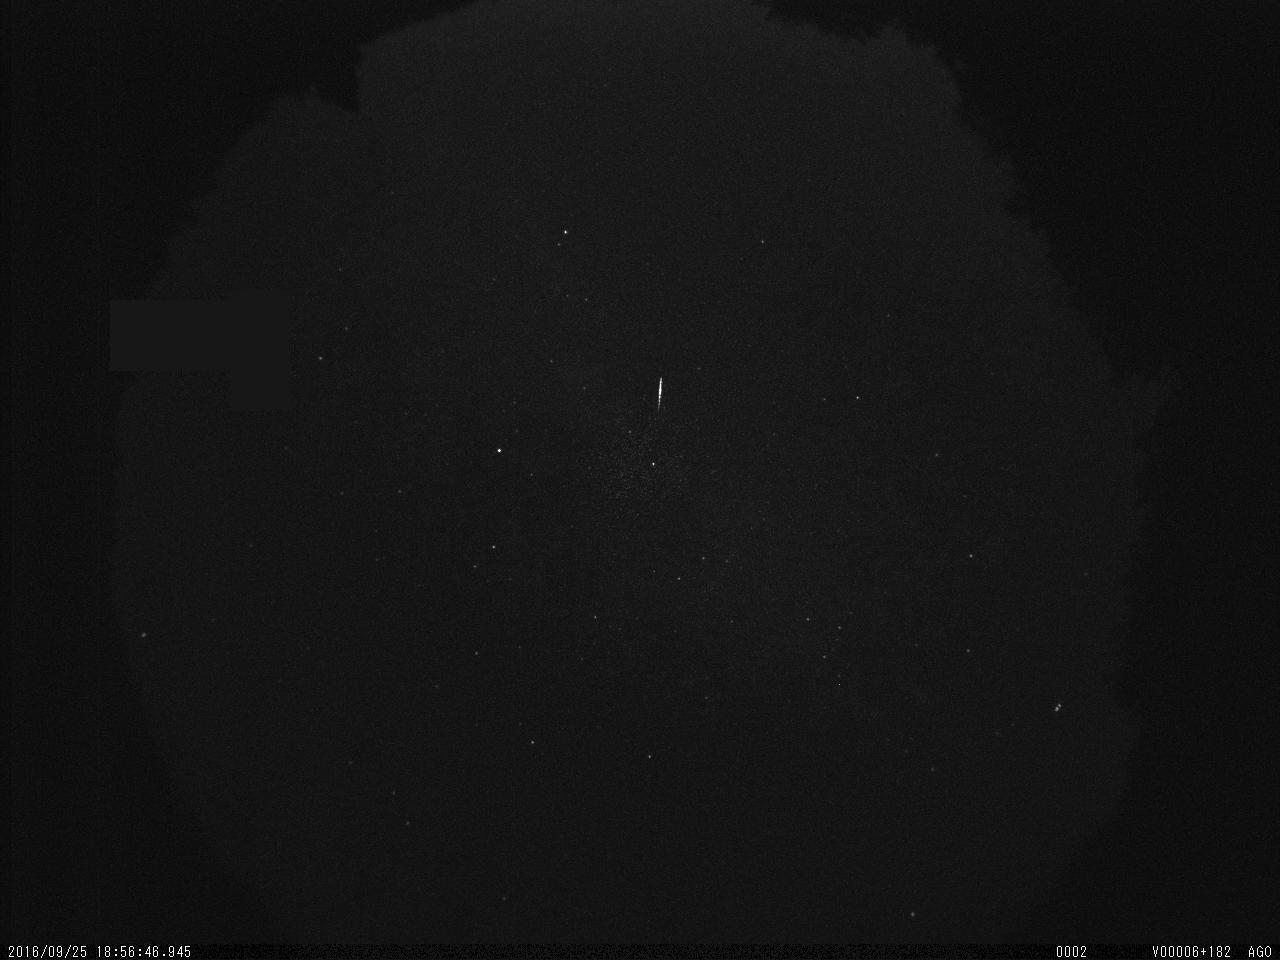Meteor: (655, 374, 666, 410)
